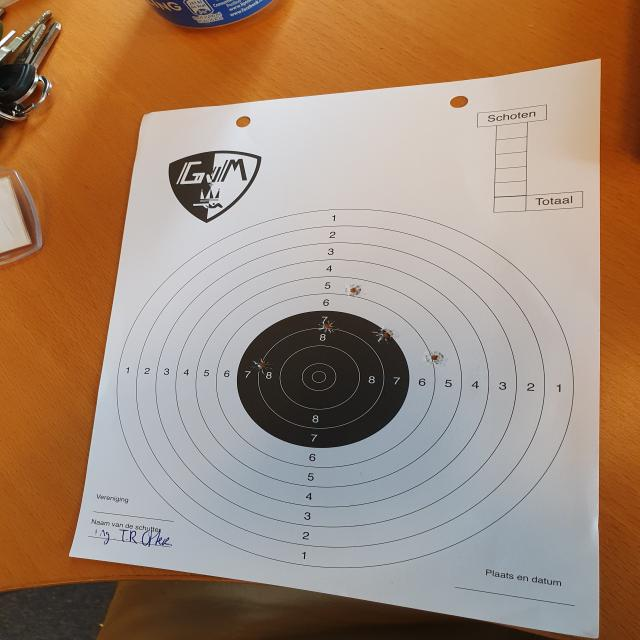6: (424, 347, 448, 366), (343, 281, 366, 299)
7: (375, 325, 399, 342)
8: (253, 356, 276, 374), (317, 319, 339, 335)
Target: (119, 208, 574, 569)
black_contour: (236, 310, 410, 448)
